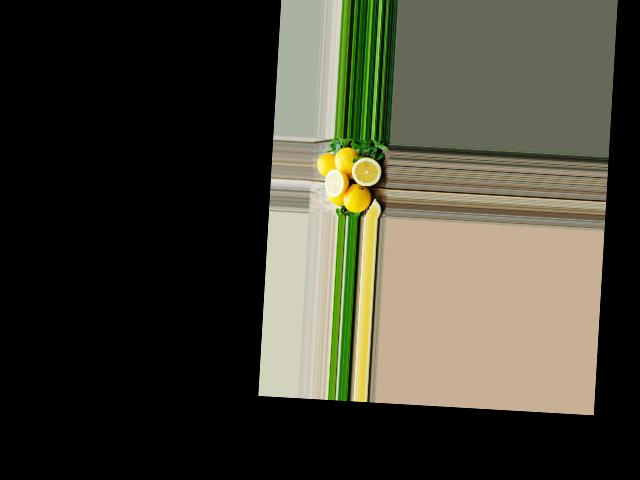lemon: (325, 190, 346, 207)
